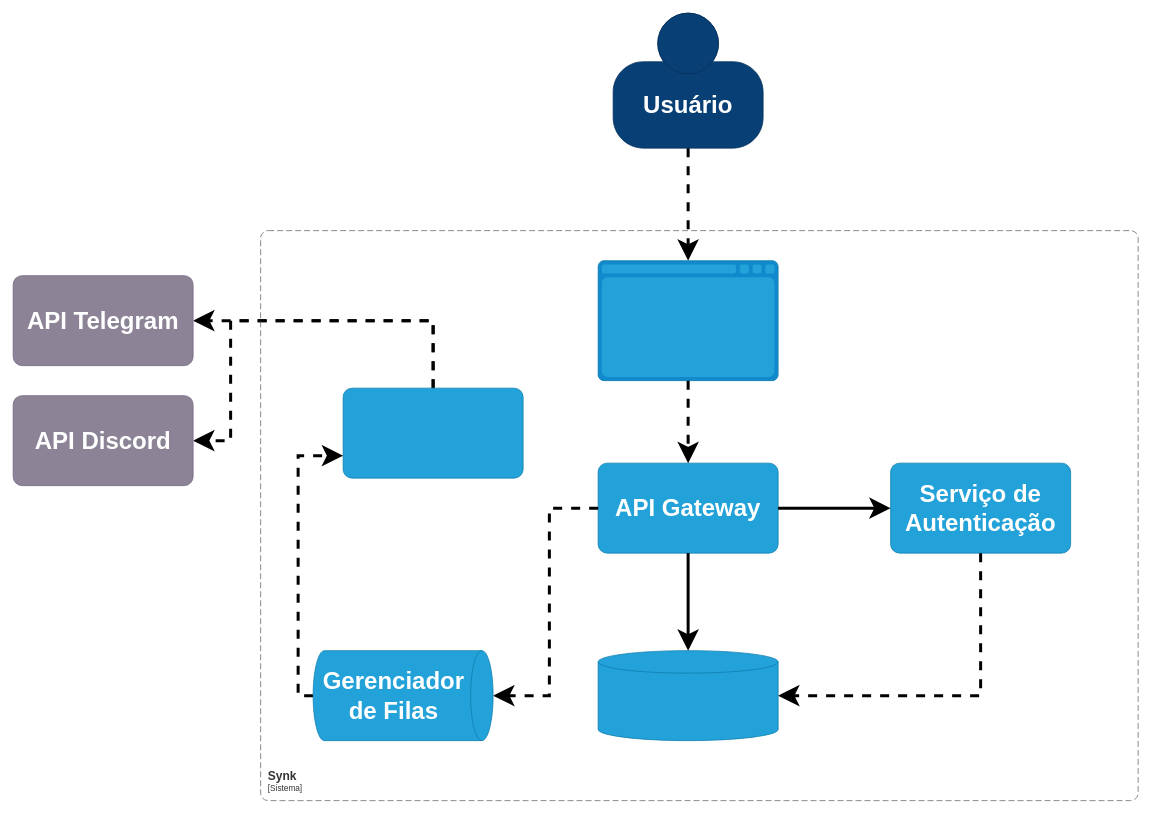
Image size: 1151x814. Some labels were removed from this diagram. The box of each missing label's shape, as (x1, y1, x2, y2) in pixels:
Aplicação Web: (597, 260, 778, 381)
Banco de Dados: (597, 650, 778, 741)
Serviço de Publicação: (342, 387, 523, 478)
